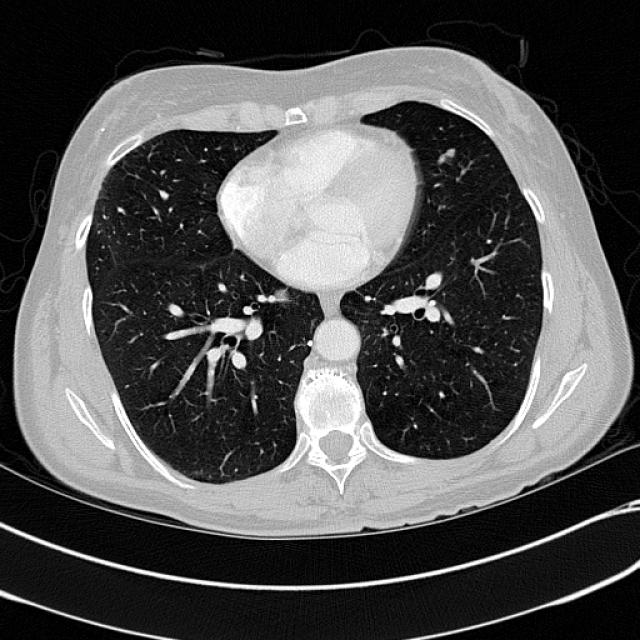nodule: (436, 140, 462, 165)
